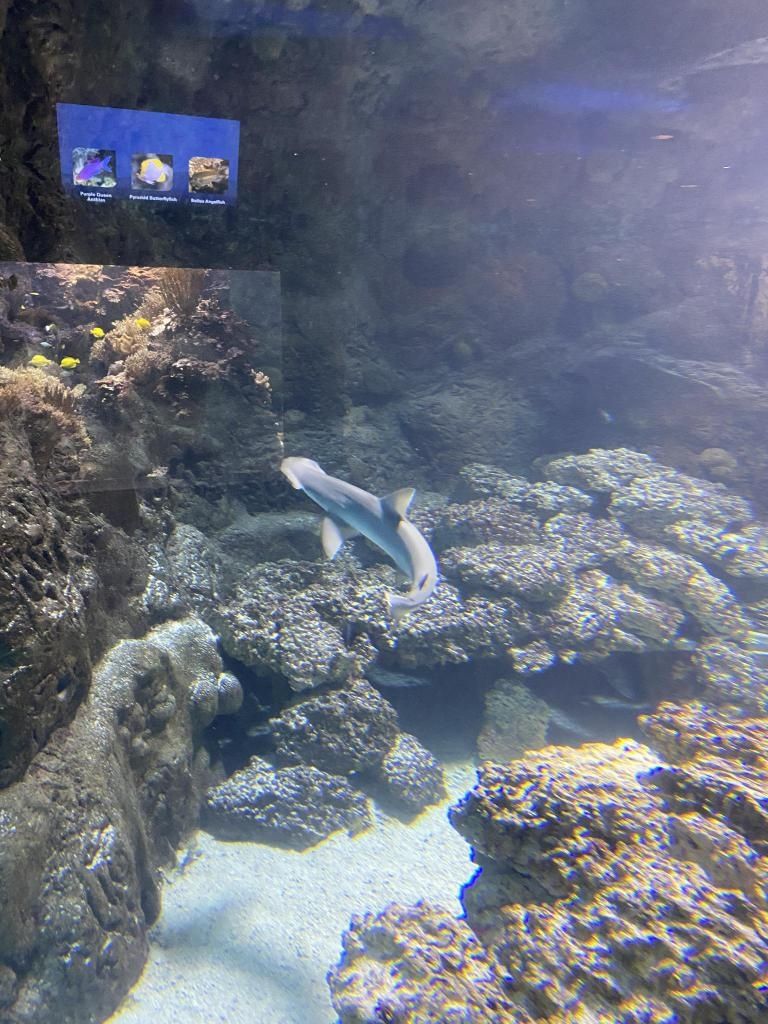shark: (282, 456, 436, 610)
